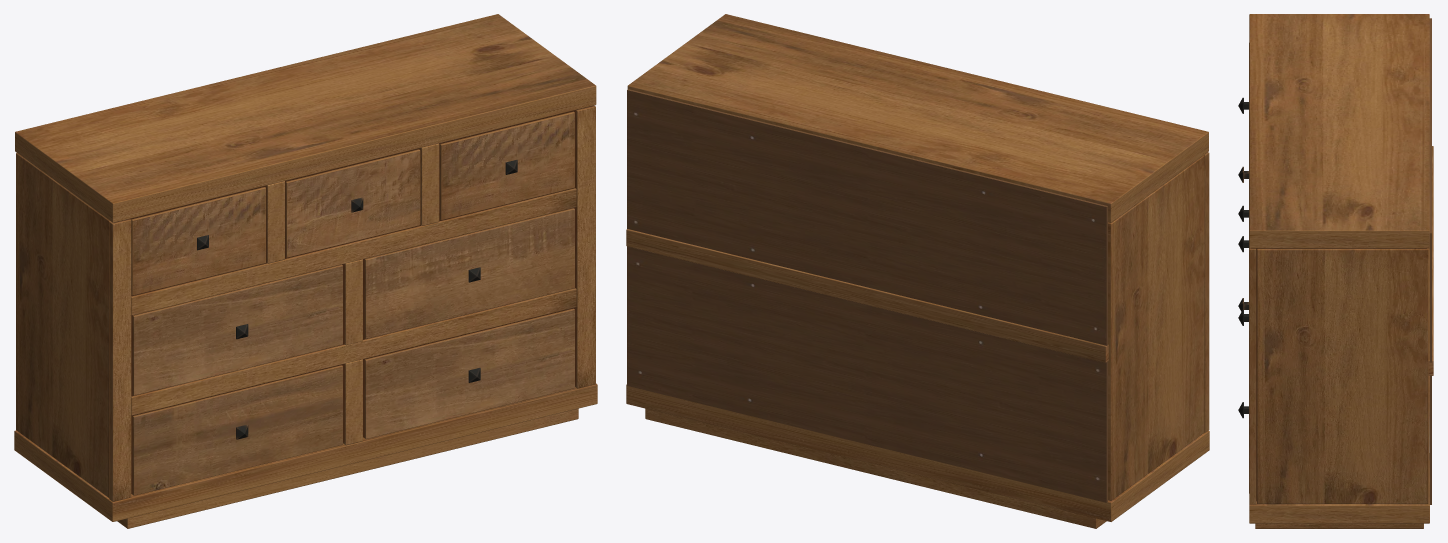
The model's file is B075YZPG5Y.glb.
3 renders of one model, left to right at view 1: azimuth 30°, elevation 25°; view 2: azimuth 150°, elevation 25°; view 3: azimuth 270°, elevation 25°, orthographic. The views are drawn at different scales.
Parts seen in each view (by area): view 1: RootNode; view 2: RootNode; view 3: RootNode.
Boxes of the visible parts, bbox=[...] form: RootNode: bbox=[14, 14, 597, 528]; RootNode: bbox=[626, 14, 1209, 528]; RootNode: bbox=[1238, 14, 1433, 528].
Size of the model in its own units: 1.26 by 0.8254 by 0.4789.
Materials: 1 (1 with a texture image).
